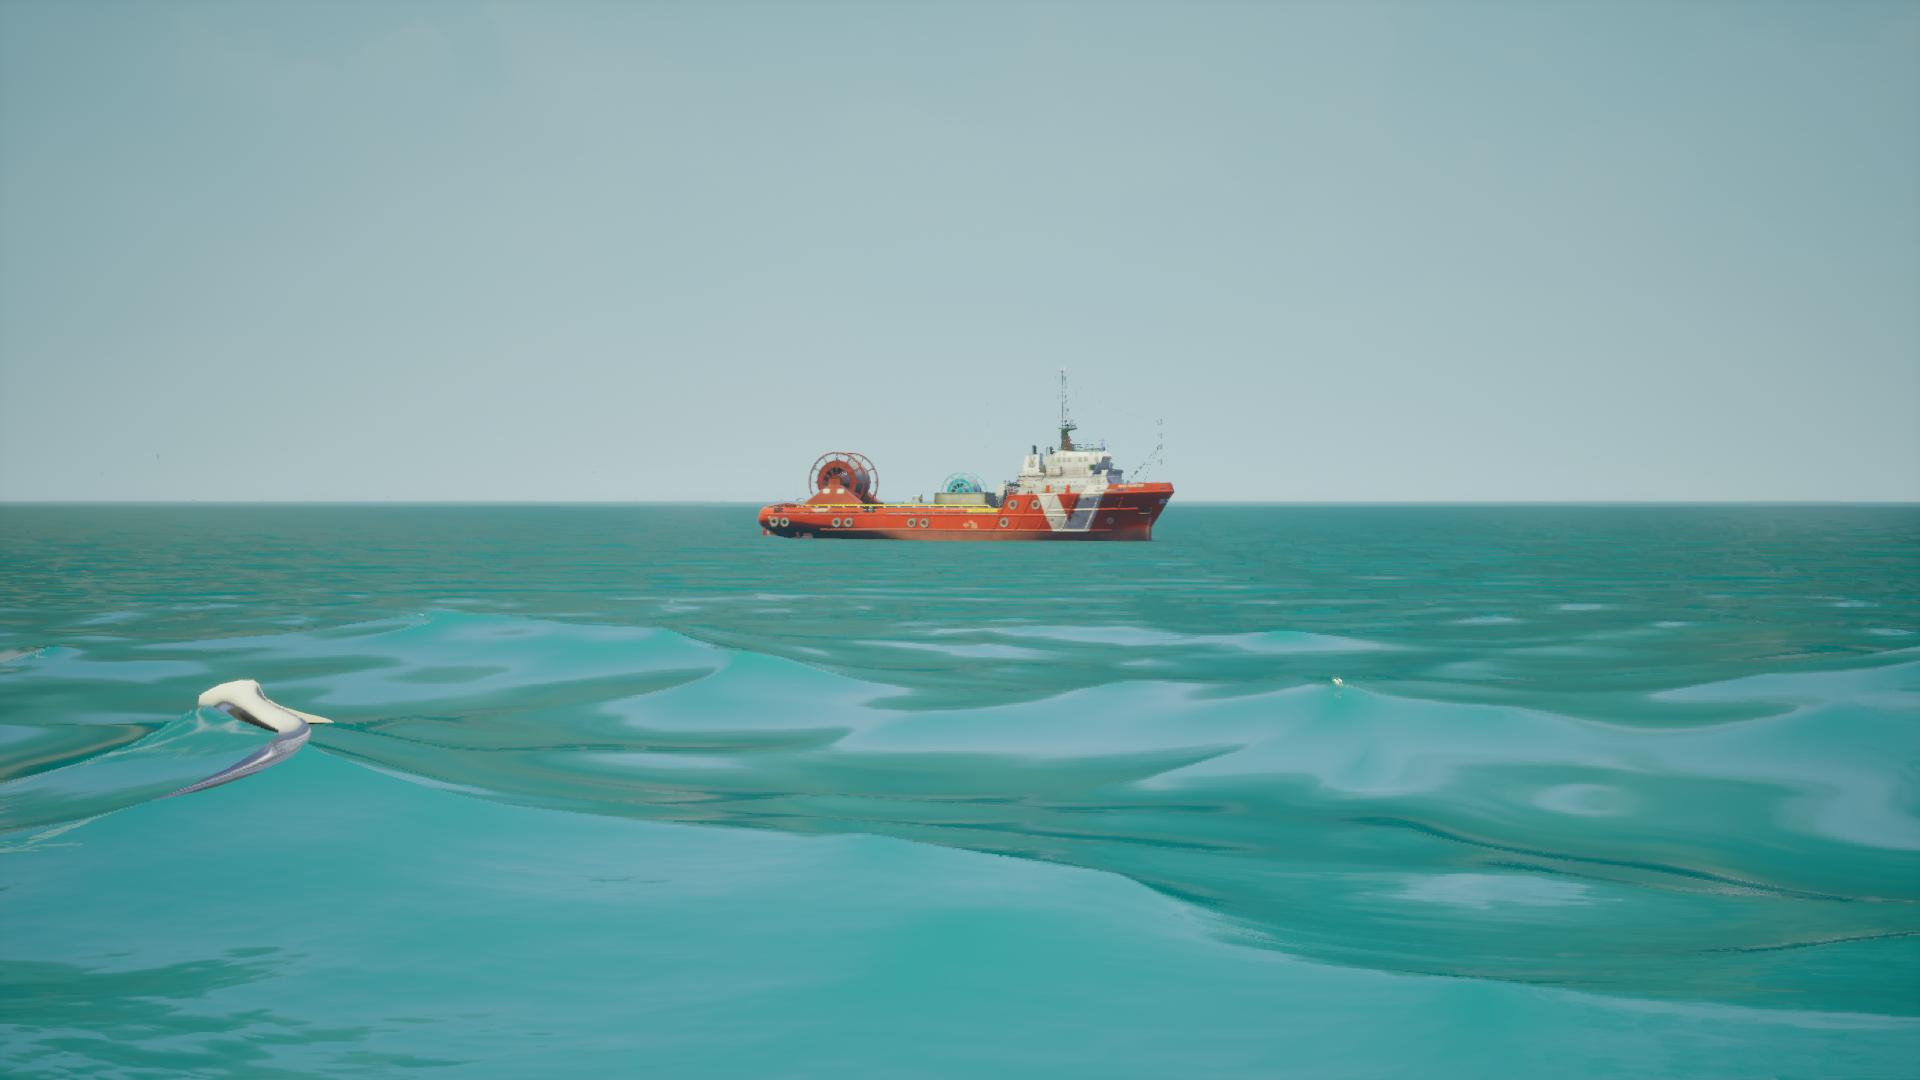Tug Boat: (764, 371, 1178, 545)
